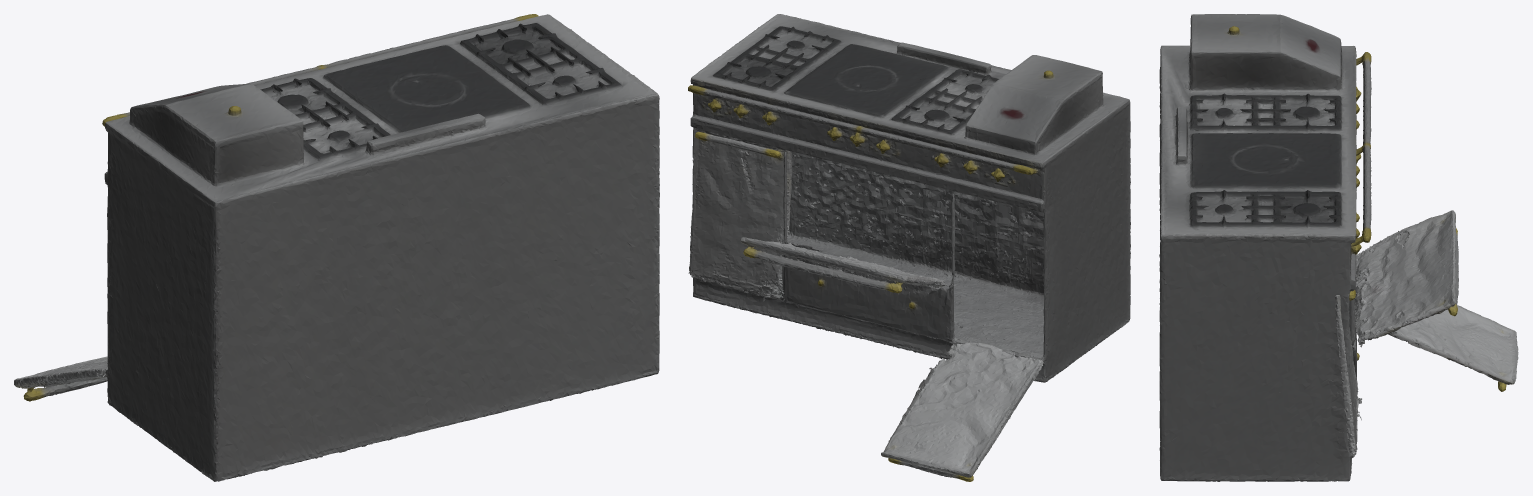
Rendered from oven_101908.glb.
3 renders of one model, left to right at view 1: azimuth 30°, elevation 25°; view 2: azimuth 150°, elevation 25°; view 3: azimuth 270°, elevation 25°, orthographic. The views are drawn at different scales.
Visible parts, largest first — view 1: oven_101908_start_0, oven_101908_start_2; view 2: oven_101908_start_0, oven_101908_start_3, oven_101908_start_2, oven_101908_start_1; view 3: oven_101908_start_0, oven_101908_start_1, oven_101908_start_2, oven_101908_start_3.
Part boxes in pixels (x1,y1,x2,y2): oven_101908_start_0: [102, 14, 659, 481]; oven_101908_start_2: [14, 356, 107, 401]; oven_101908_start_0: [688, 14, 1130, 382]; oven_101908_start_3: [688, 131, 791, 301]; oven_101908_start_2: [881, 342, 1044, 481]; oven_101908_start_1: [740, 237, 946, 293]; oven_101908_start_0: [1159, 14, 1371, 481]; oven_101908_start_1: [1354, 210, 1458, 347]; oven_101908_start_2: [1356, 270, 1518, 391]; oven_101908_start_3: [1335, 290, 1361, 455].
Bounding box in the file's own units: 1.63 × 1.36 × 1.28.
